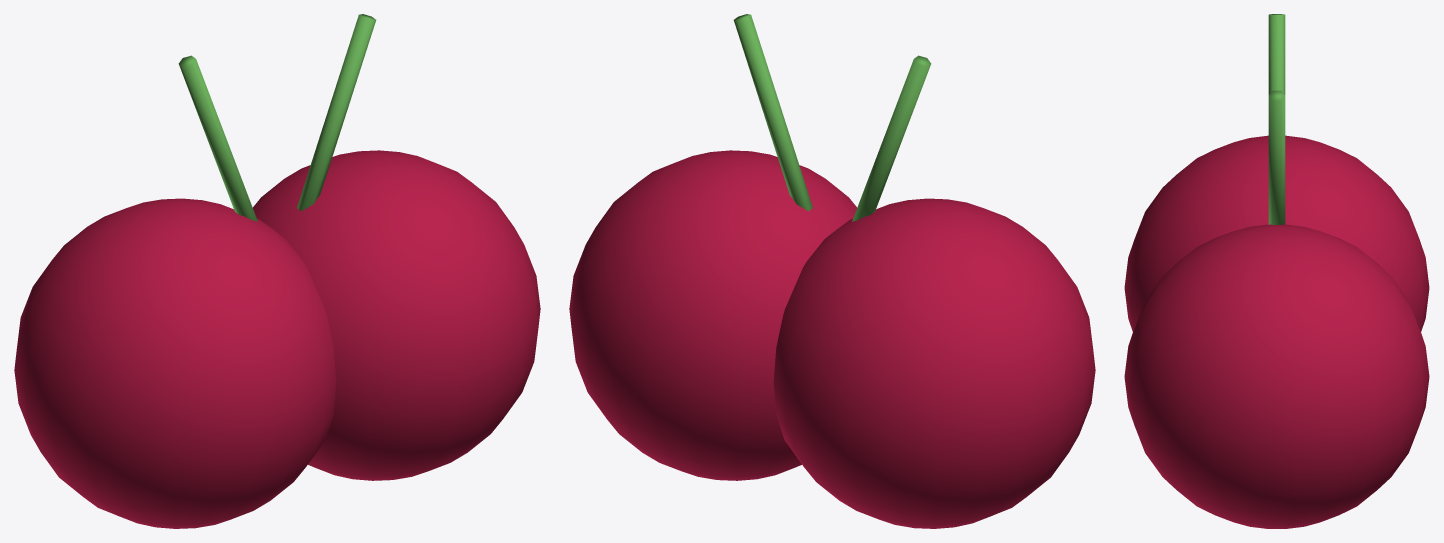
File: cherry.glb
The picture shows the model from 3 angles, left to right: view 1: azimuth 30°, elevation 25°; view 2: azimuth 150°, elevation 25°; view 3: azimuth 270°, elevation 25°; orthographic projection. The views are drawn at different scales.
Visible parts, largest first — view 1: cherry; view 2: cherry; view 3: cherry.
Part boxes in pixels (x1,y1,x2,y2): cherry: (14, 14, 540, 528); cherry: (569, 14, 1095, 528); cherry: (1124, 14, 1429, 528).
Size of the model in its own units: 1 by 0.9 by 0.5957.
